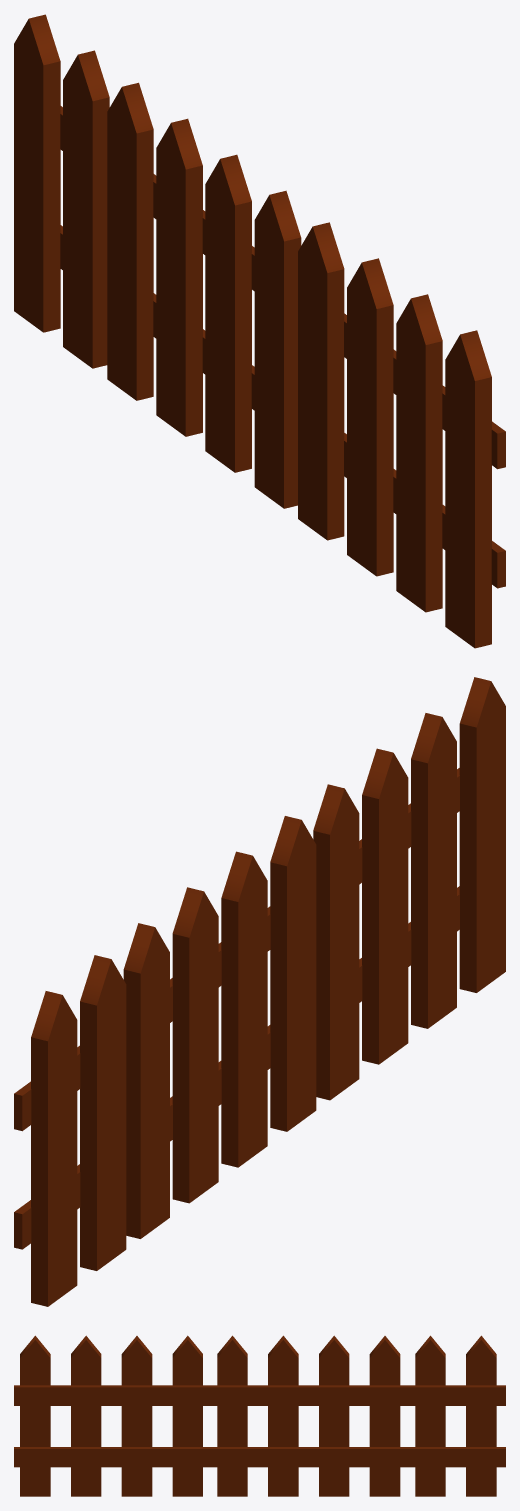
File: WallX5.FBX
3 views of the same model, one above another, from view 1: azimuth 30°, elevation 25°; view 2: azimuth 150°, elevation 25°; view 3: azimuth 270°, elevation 25° (orthographic). The views are drawn at different scales.
Parts seen in each view (by area): view 1: Body; view 2: Body; view 3: Body.
Part boxes in pixels (left/top/right/bottom): Body: left=14, top=14, right=505, bottom=648; Body: left=14, top=677, right=505, bottom=1306; Body: left=14, top=1335, right=505, bottom=1496.
Bounding box in the file's own units: 0.1479 × 1.7 × 4.84.
